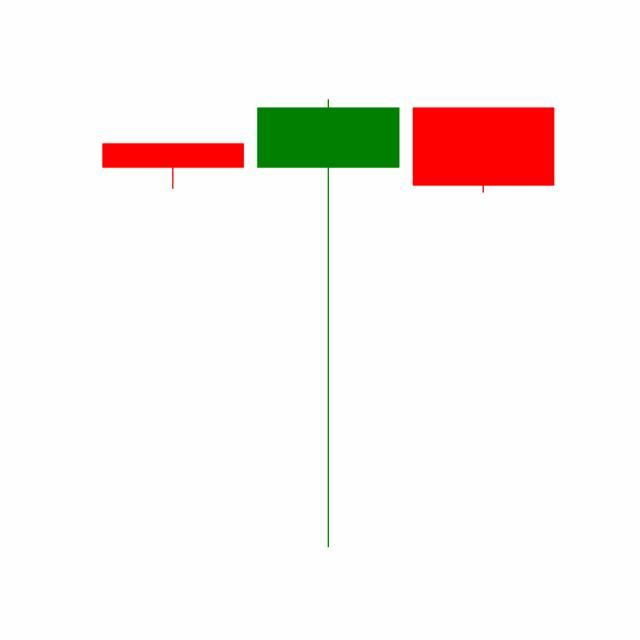Marubozu: (406, 107, 562, 196)
